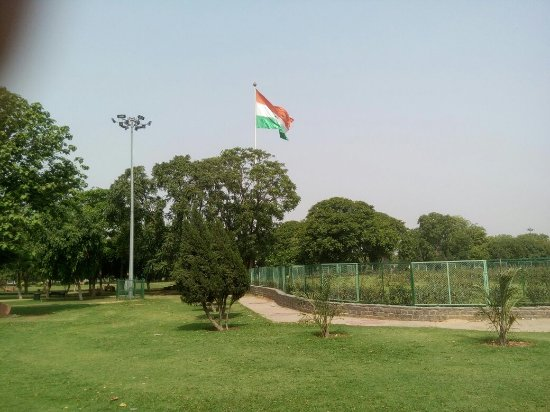flag: (245, 94, 309, 144)
